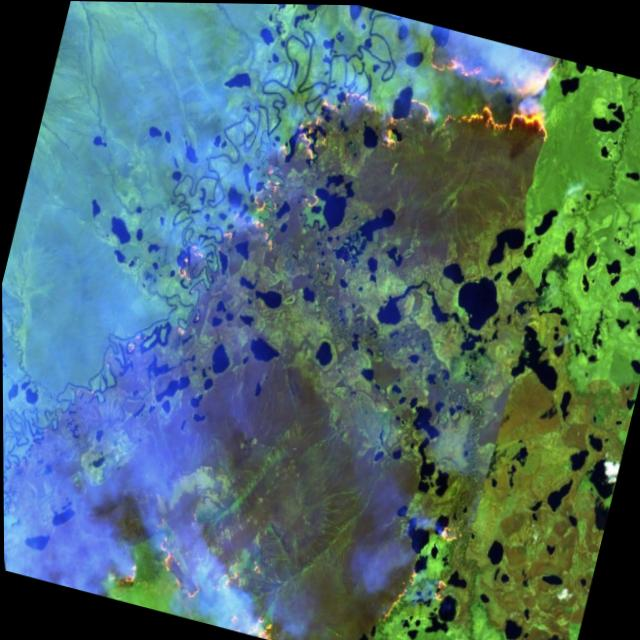fire: (162, 2, 568, 369), (113, 512, 299, 640), (372, 500, 469, 640)
